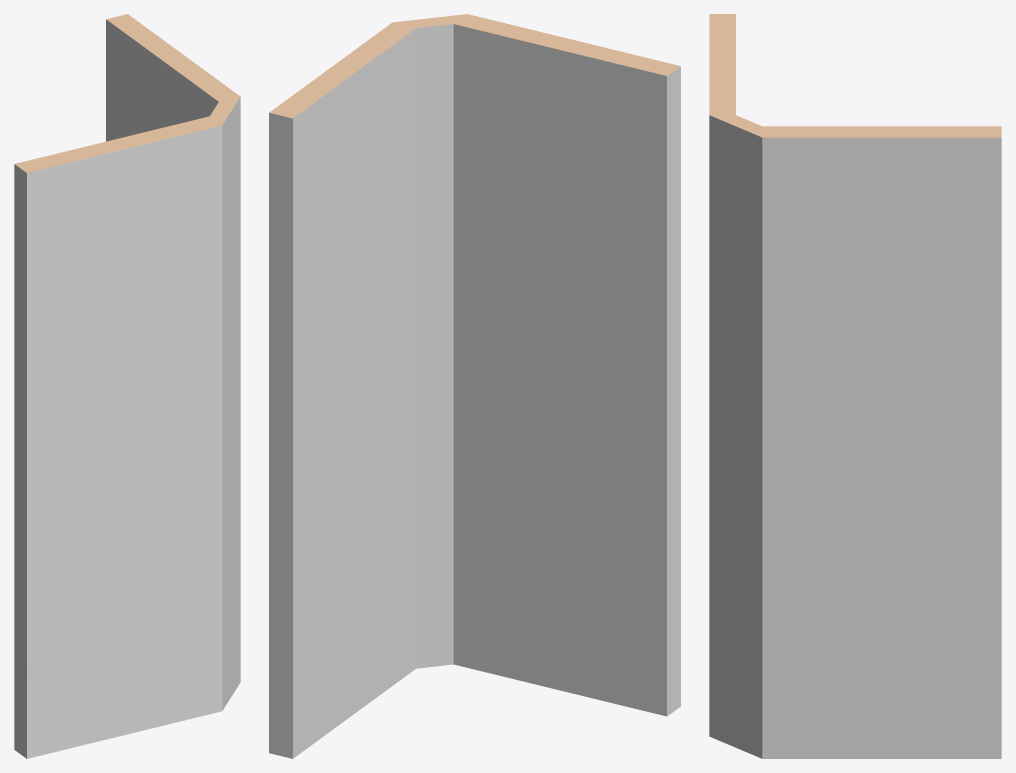
File: wallCorner.glb
3 renders of one model, left to right at view 1: azimuth 30°, elevation 25°; view 2: azimuth 150°, elevation 25°; view 3: azimuth 270°, elevation 25°, orthographic. The views are drawn at different scales.
Parts seen in each view (by area): view 1: wallCorner(Clone); view 2: wallCorner(Clone); view 3: wallCorner(Clone).
Boxes of the visible parts, left/top/right/bottom form: wallCorner(Clone): left=14, top=14, right=240, bottom=758; wallCorner(Clone): left=269, top=14, right=680, bottom=758; wallCorner(Clone): left=709, top=14, right=1001, bottom=758.
Bounding box in the file's own units: 0.55 × 1.29 × 0.55.
